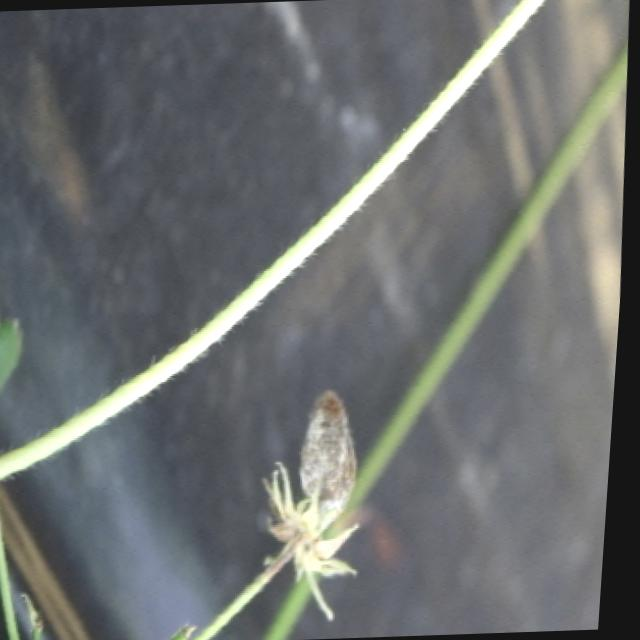Gray Mold: (266, 388, 370, 619)
